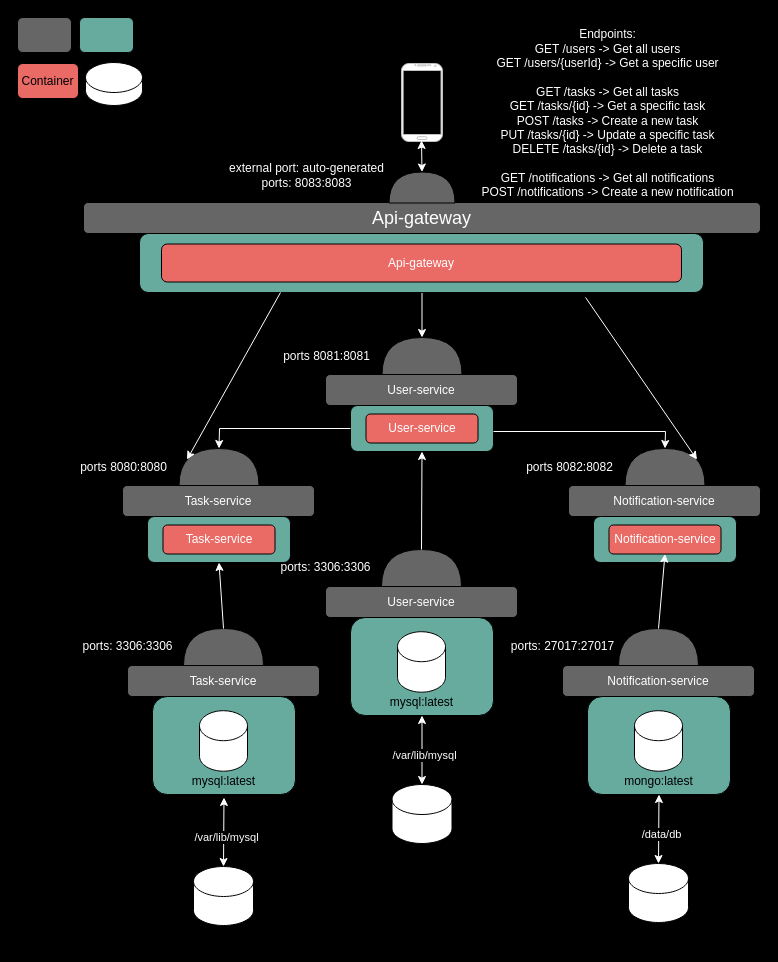
Some shapes in this 778 by 962 pixel diagram are drawn without their labels. Here are the shapes that lost their labels. From the top down, the centre of each, then its label:
[44,34]: Service
[106,34]: POD
[113,84]: Volume
[421,814]: mysql_user_data
[223,896]: mysql_task_data
[658,892]: mongodb_notification_data
